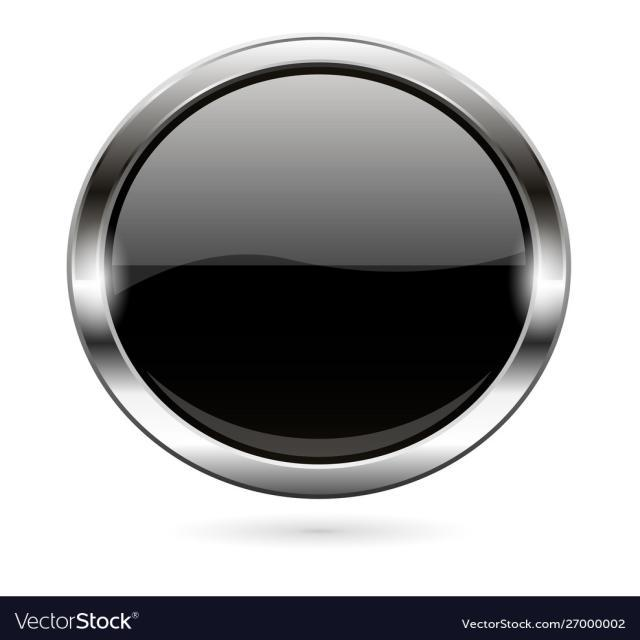hidden camera: (27, 40, 610, 492)
